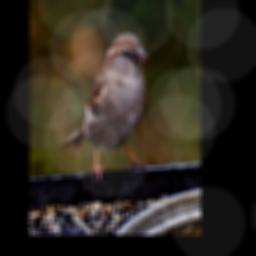Sparrow: (63, 31, 150, 186)
